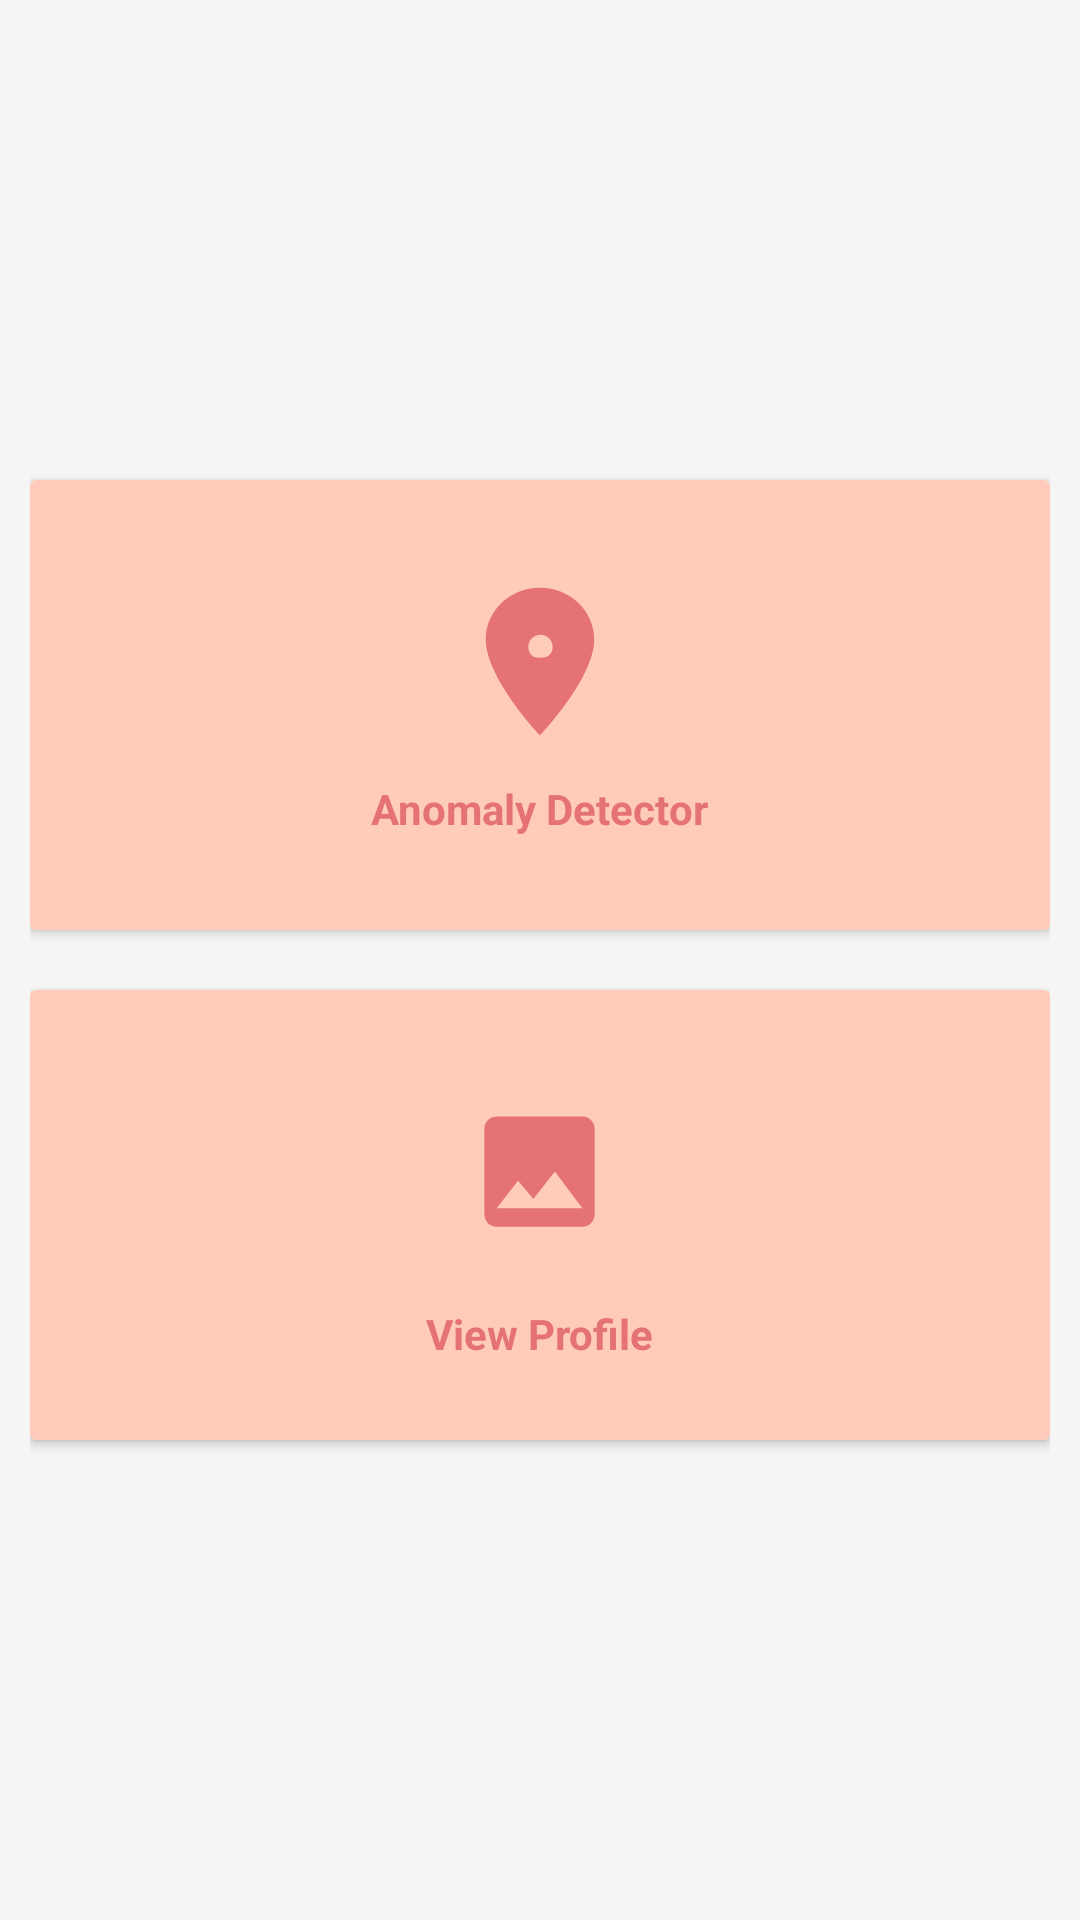

Screen size 1080x1920. Icon name, then its center in pixels as point (x, y):
location on: point (540, 661)
photo: point (539, 1171)
